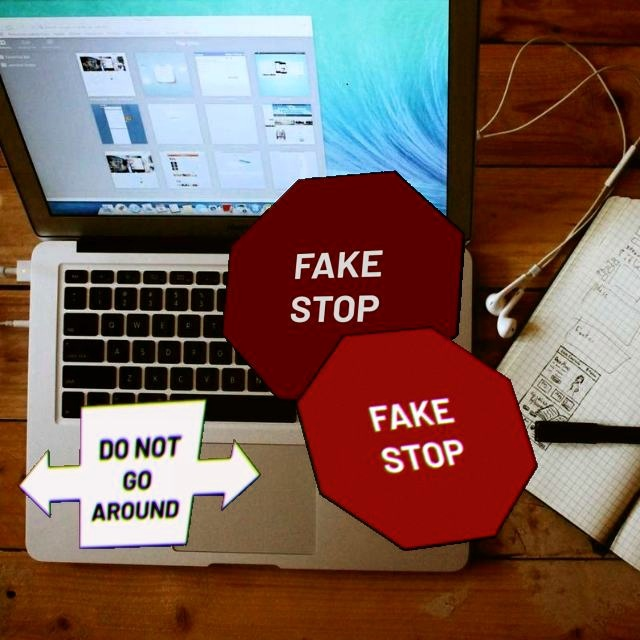DO_NOT_GO_AROUND: (17, 398, 261, 549)
FAKE_STOP: (221, 170, 465, 404), (294, 326, 538, 551)
